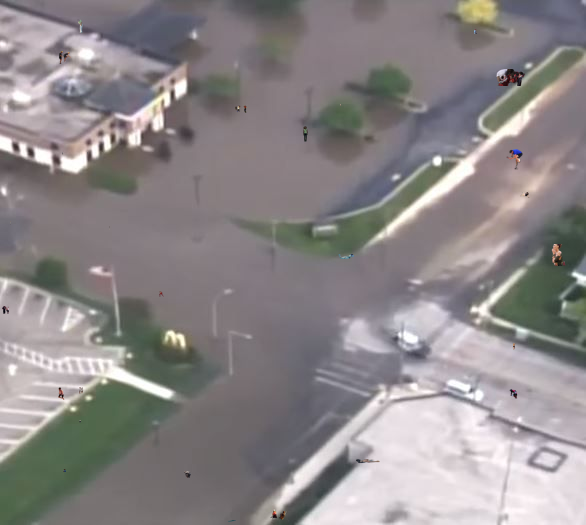Human: (496, 69, 525, 86), (544, 244, 566, 266), (509, 381, 534, 399), (58, 387, 88, 400), (506, 149, 523, 170), (270, 509, 288, 525), (59, 51, 71, 64), (356, 459, 380, 463), (235, 105, 247, 113), (77, 19, 83, 33), (303, 126, 308, 142), (338, 254, 354, 259), (520, 192, 530, 198), (2, 306, 9, 314), (184, 471, 191, 478), (159, 291, 164, 297), (513, 343, 516, 350), (228, 520, 236, 522), (474, 29, 477, 34), (63, 469, 66, 472), (79, 420, 81, 423), (87, 152, 88, 156), (10, 221, 11, 225), (109, 226, 110, 230), (62, 152, 63, 155), (340, 104, 341, 106)
